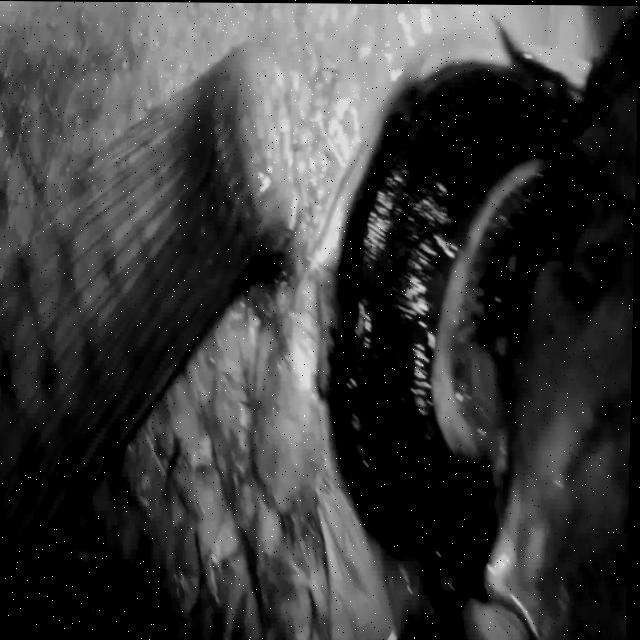Non-Fresh: (277, 29, 640, 630)
